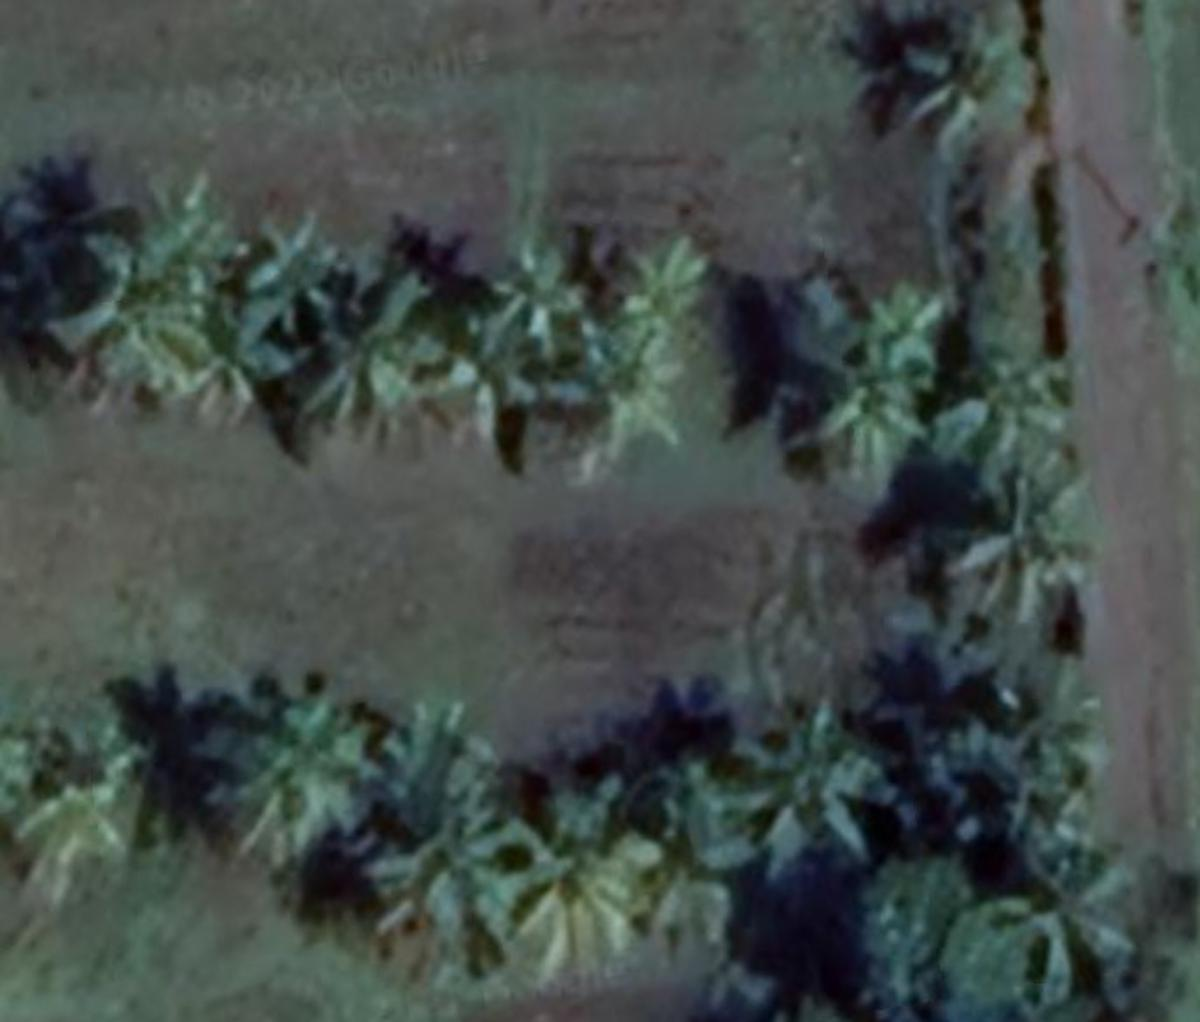coconut: (296, 284, 488, 443), (199, 705, 389, 856), (745, 709, 889, 876), (363, 684, 506, 842), (503, 819, 656, 959), (20, 733, 160, 885), (894, 6, 1035, 151), (955, 474, 1089, 614), (999, 648, 1130, 789), (1014, 857, 1140, 1001), (363, 831, 496, 962), (794, 359, 931, 480), (943, 344, 1065, 455), (181, 305, 291, 426), (574, 326, 682, 448), (482, 239, 606, 344), (607, 228, 723, 331), (253, 220, 349, 312), (868, 284, 948, 393)
